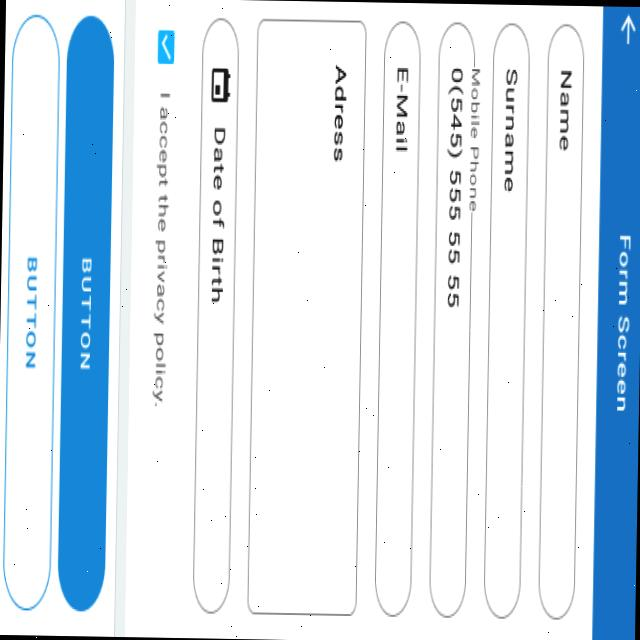QLabel: (149, 84, 172, 410), (611, 228, 636, 414), (22, 253, 38, 373), (78, 254, 94, 370)
VAppBar: (592, 4, 640, 640)
VBtn: (1, 10, 61, 612), (57, 13, 115, 610)
VCheckbox: (155, 23, 177, 68)
VFooter: (0, 0, 125, 636)
VIcon: (616, 6, 640, 52)
VInlineDatepicker: (192, 14, 240, 614)
VTextField: (427, 21, 482, 618), (536, 20, 585, 622), (482, 19, 530, 621), (374, 18, 422, 616)
VTextarea: (245, 14, 368, 618)
